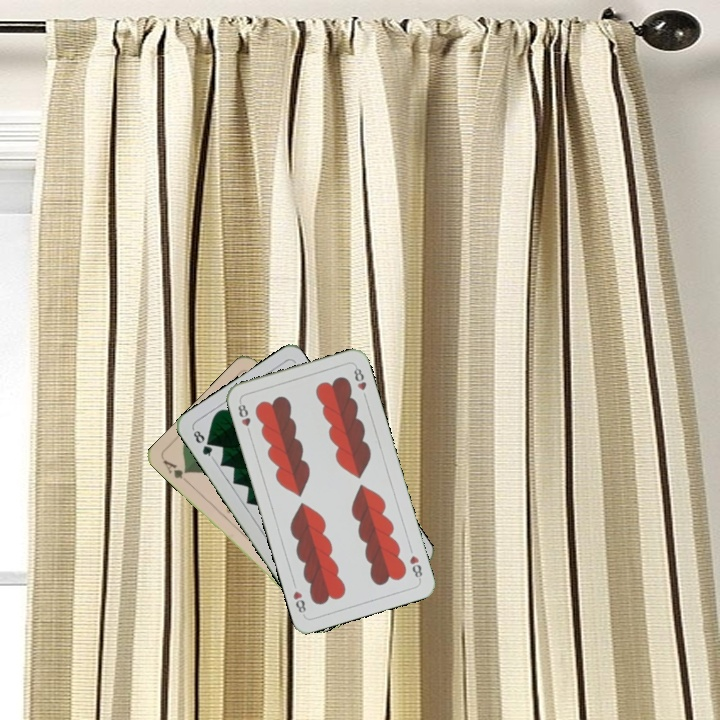G8: (189, 425, 216, 461)
GA: (159, 455, 193, 487)
H8: (234, 397, 254, 437), (406, 551, 425, 583)
